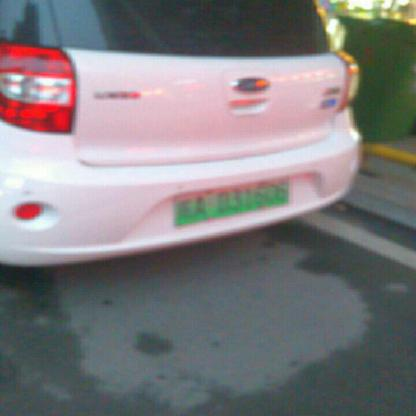lp: (173, 176, 289, 227)
